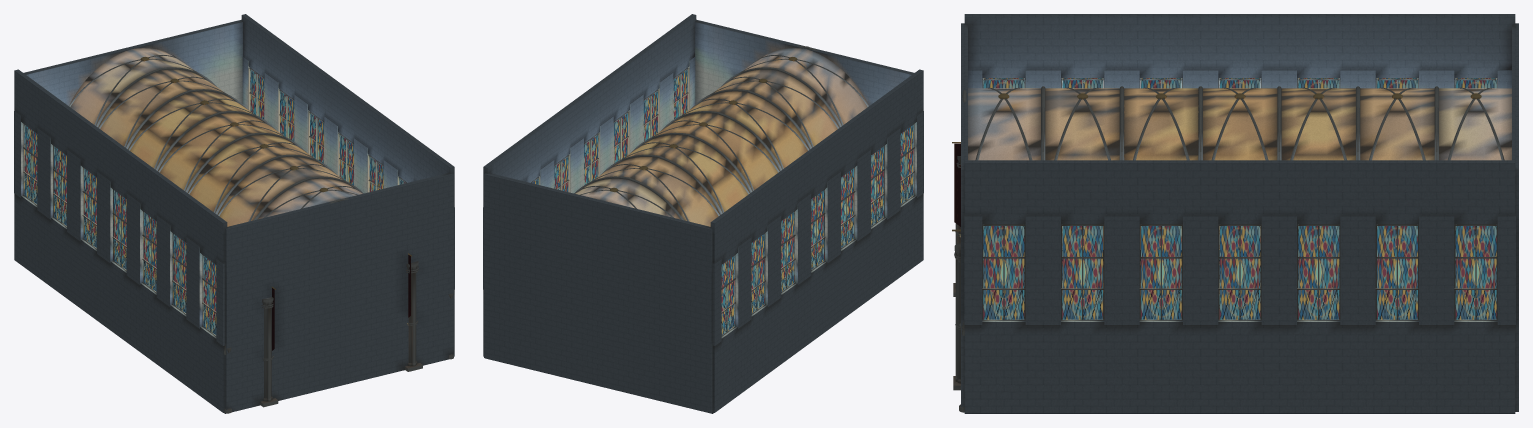
The model's file is castle-hall.gltf.
3 renders of one model, left to right at view 1: azimuth 30°, elevation 25°; view 2: azimuth 150°, elevation 25°; view 3: azimuth 270°, elevation 25°, orthographic. The views are drawn at different scales.
Parts seen in each view (by area): view 1: SouthEnd__Dressed masonry, Bay03__Dressed masonry, Bay06__Dressed masonry, Bay05__Dressed masonry, Bay04__Dressed masonry, Bay02__Dressed masonry, Bay01__Dressed masonry, Bay00__Dressed masonry, NorthEnd__Dressed masonry, Bay06__Matte limestone, Bay04__Matte limestone, Bay02__Matte limestone (+11 smaller); view 2: NorthEnd__Dressed masonry, Bay00__Dressed masonry, Bay01__Dressed masonry, Bay03__Dressed masonry, Bay02__Dressed masonry, Bay04__Dressed masonry, Bay05__Dressed masonry, Bay06__Dressed masonry, SouthEnd__Dressed masonry, Bay02__Matte limestone, Bay04__Matte limestone, Bay03__Matte limestone (+11 smaller); view 3: Bay03__Dressed masonry, Bay00__Dressed masonry, Bay01__Dressed masonry, Bay04__Dressed masonry, Bay06__Dressed masonry, Bay02__Dressed masonry, Bay05__Dressed masonry, Bay00__Matte limestone, Bay03__Matte limestone, Bay02__Matte limestone, Bay04__Matte limestone, Bay01__Matte limestone (+12 smaller).
Boxes of the visible parts, x1=… form: SouthEnd__Dressed masonry: x1=225, y1=173, x2=453, y2=411; Bay03__Dressed masonry: x1=103, y1=79, x2=364, y2=346; Bay06__Dressed masonry: x1=14, y1=14, x2=275, y2=281; Bay05__Dressed masonry: x1=44, y1=36, x2=304, y2=303; Bay04__Dressed masonry: x1=73, y1=57, x2=334, y2=325; Bay02__Dressed masonry: x1=133, y1=101, x2=394, y2=368; Bay01__Dressed masonry: x1=163, y1=123, x2=424, y2=390; Bay00__Dressed masonry: x1=193, y1=145, x2=454, y2=412; NorthEnd__Dressed masonry: x1=24, y1=19, x2=242, y2=105; Bay06__Matte limestone: x1=23, y1=48, x2=264, y2=205; Bay04__Matte limestone: x1=82, y1=91, x2=324, y2=249; Bay02__Matte limestone: x1=142, y1=135, x2=383, y2=292; NorthEnd__Dressed masonry: x1=484, y1=173, x2=712, y2=413; Bay00__Dressed masonry: x1=662, y1=14, x2=923, y2=281; Bay01__Dressed masonry: x1=633, y1=36, x2=893, y2=303; Bay03__Dressed masonry: x1=573, y1=79, x2=834, y2=346; Bay02__Dressed masonry: x1=603, y1=57, x2=864, y2=325; Bay04__Dressed masonry: x1=543, y1=101, x2=804, y2=368; Bay05__Dressed masonry: x1=513, y1=123, x2=774, y2=390; Bay06__Dressed masonry: x1=483, y1=145, x2=744, y2=412; SouthEnd__Dressed masonry: x1=695, y1=19, x2=913, y2=105; Bay02__Matte limestone: x1=613, y1=89, x2=855, y2=249; Bay04__Matte limestone: x1=554, y1=132, x2=795, y2=292; Bay03__Matte limestone: x1=584, y1=111, x2=825, y2=270; Bay03__Dressed masonry: x1=1200, y1=14, x2=1279, y2=413; Bay00__Dressed masonry: x1=964, y1=14, x2=1043, y2=413; Bay01__Dressed masonry: x1=1043, y1=14, x2=1122, y2=413; Bay04__Dressed masonry: x1=1279, y1=14, x2=1358, y2=413; Bay06__Dressed masonry: x1=1436, y1=14, x2=1515, y2=413; Bay02__Dressed masonry: x1=1121, y1=14, x2=1200, y2=413; Bay05__Dressed masonry: x1=1357, y1=14, x2=1436, y2=413; Bay00__Matte limestone: x1=953, y1=78, x2=1040, y2=412; Bay03__Matte limestone: x1=1198, y1=78, x2=1277, y2=320; Bay02__Matte limestone: x1=1119, y1=78, x2=1198, y2=320; Bay04__Matte limestone: x1=1277, y1=78, x2=1355, y2=320; Bay01__Matte limestone: x1=1041, y1=78, x2=1119, y2=320.
Bounding box in the file's own units: 22.45 × 17.69 × 36.02.
15 materials, 9 textured.
